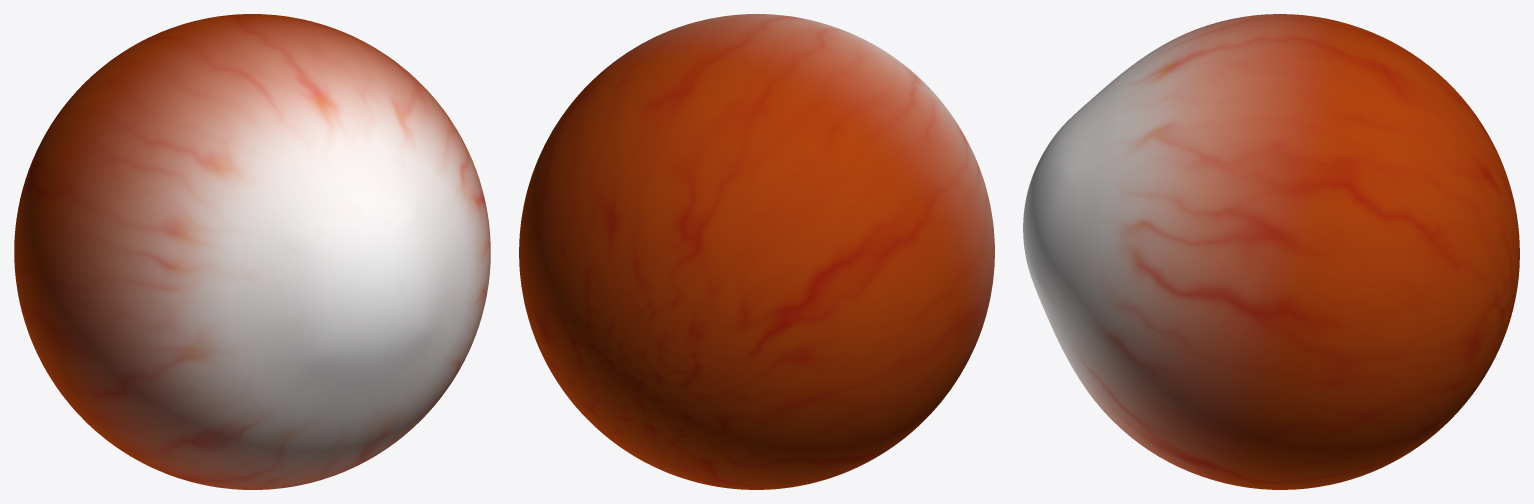
3 views of the same model, side by side, from view 1: azimuth 30°, elevation 25°; view 2: azimuth 150°, elevation 25°; view 3: azimuth 270°, elevation 25° (orthographic).
Parts seen in each view (by area): view 1: Eye; view 2: Eye; view 3: Eye.
Boxes of the visible parts, box(x1,y1,x2,y2) form: Eye: box(14, 14, 490, 489); Eye: box(519, 14, 994, 489); Eye: box(1023, 14, 1519, 489).
Size of the model in its own units: 1.95 by 1.95 by 2.04.
2 materials, 2 textured.
